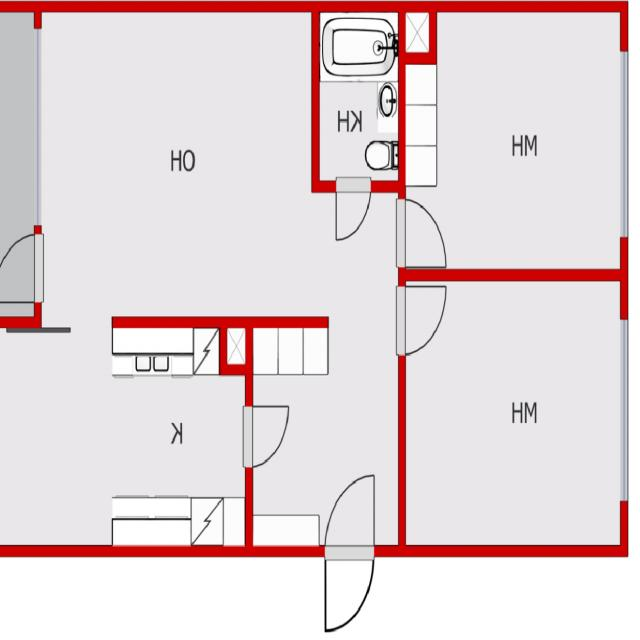door: (324, 543, 374, 632), (324, 465, 374, 554), (398, 287, 450, 355), (398, 199, 448, 264), (246, 406, 293, 468), (0, 234, 41, 304), (338, 180, 372, 245)
